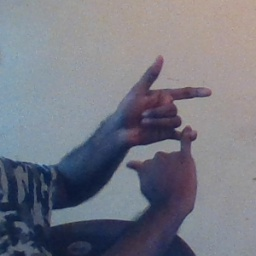S: (108, 50, 218, 195)
